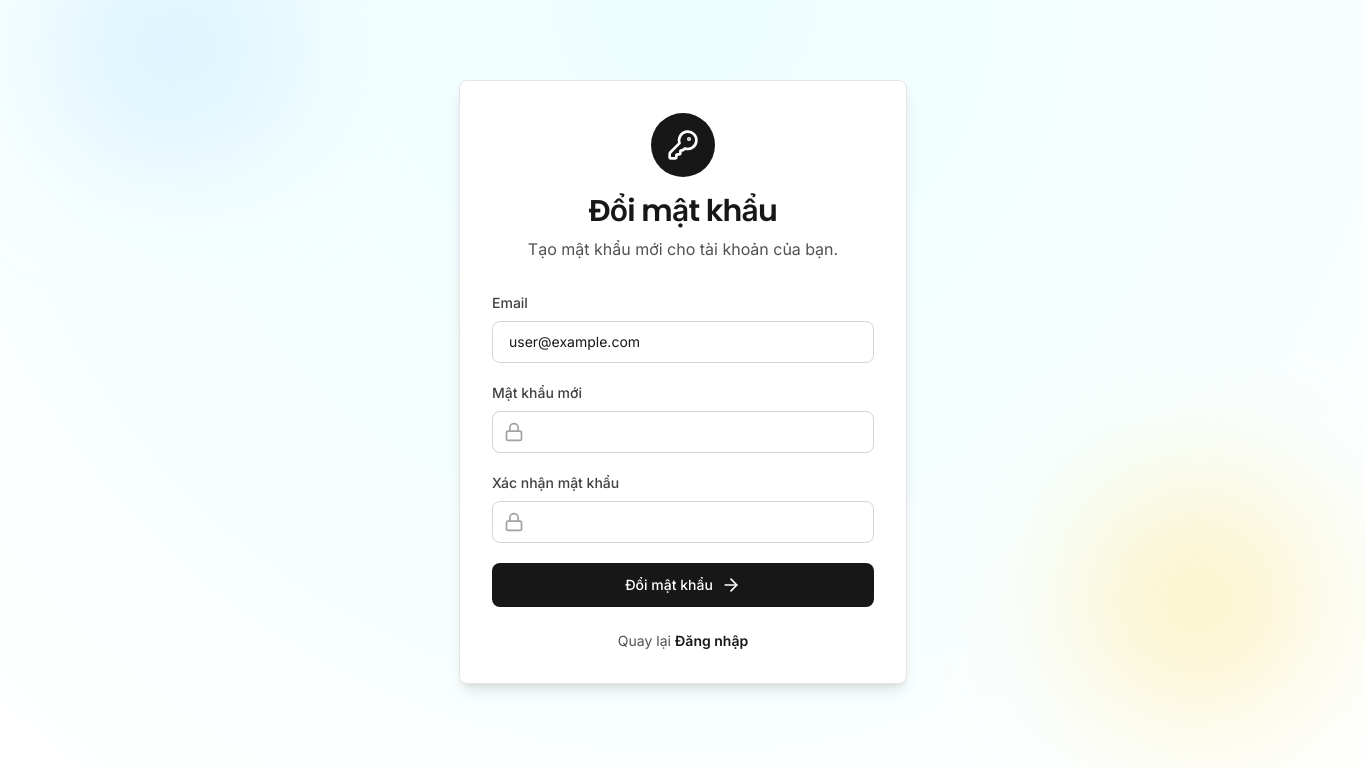
ResetPasswordPage › hien thi loi tu API khi reset password that bai
In the 1st password field: [683, 432] box [492,411,874,453], type "abcde"
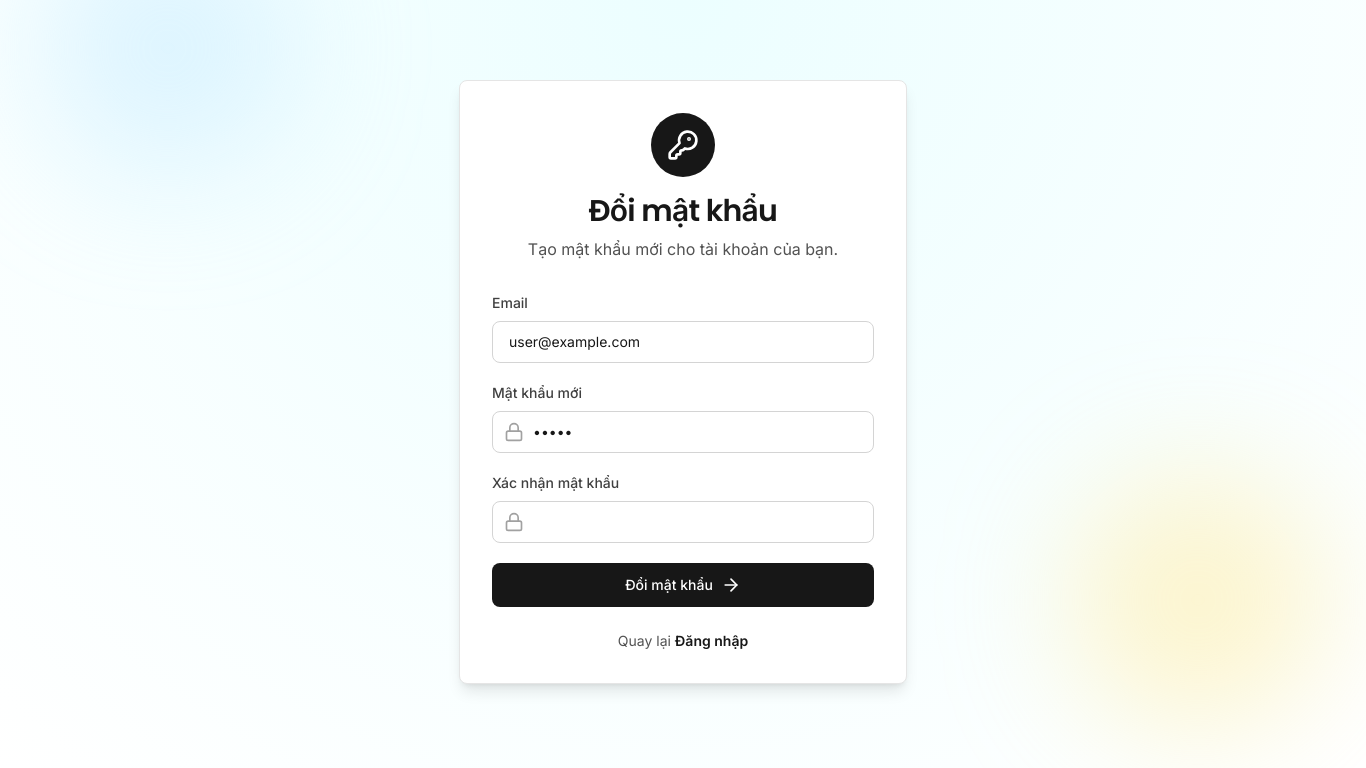
In the password field below "Xác nhận mật khẩu": [683, 522] box [492,501,874,543], type "abcde"
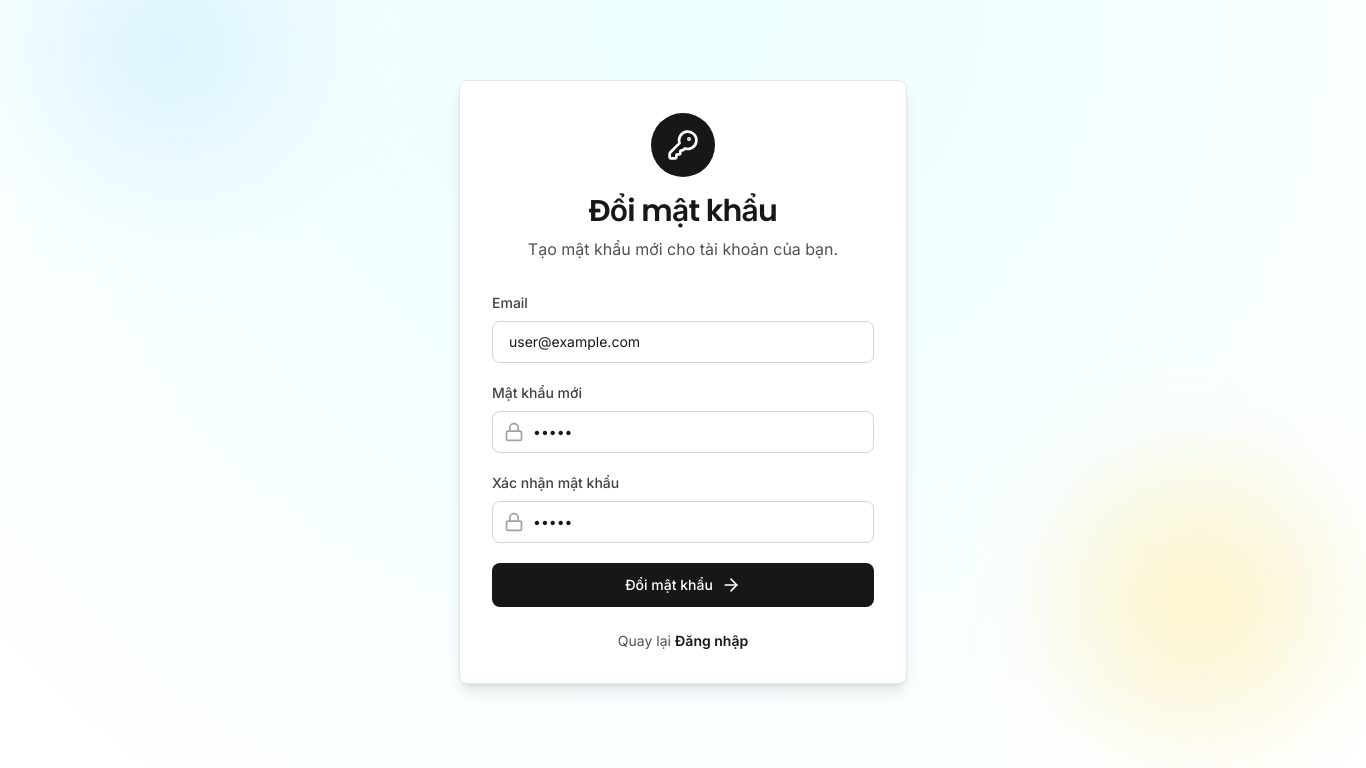
Click the submit button: [683, 585] box [492,563,874,607]
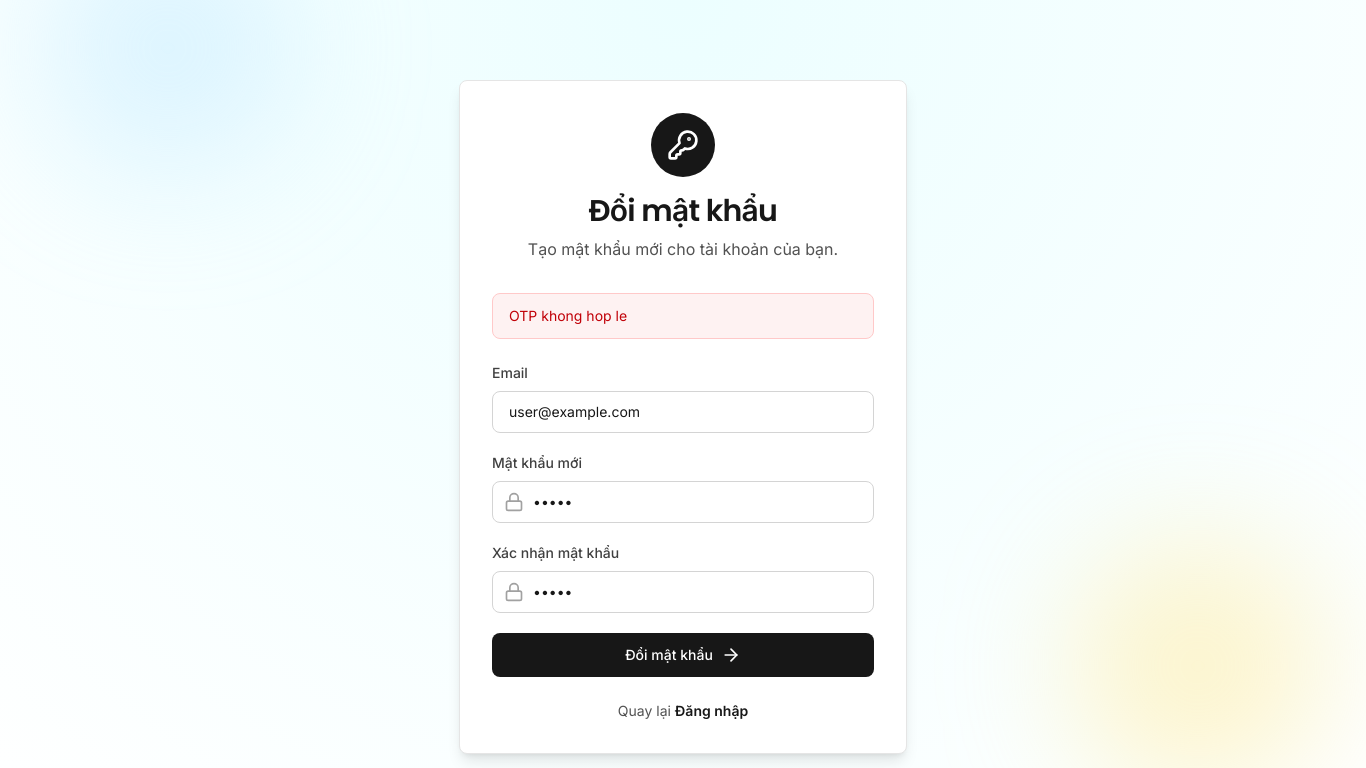
Check: the text "OTP khong hop le" is shown, box [492,293,874,339]
